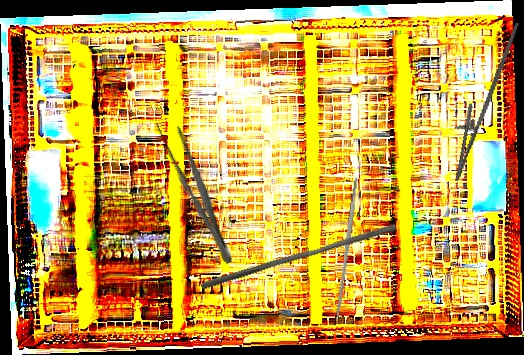Dressing Forceps: (151, 115, 242, 268)
Needle Holder: (441, 14, 521, 187)
Pusher: (199, 216, 398, 298)
Scalpel Handle: (334, 177, 360, 321)
